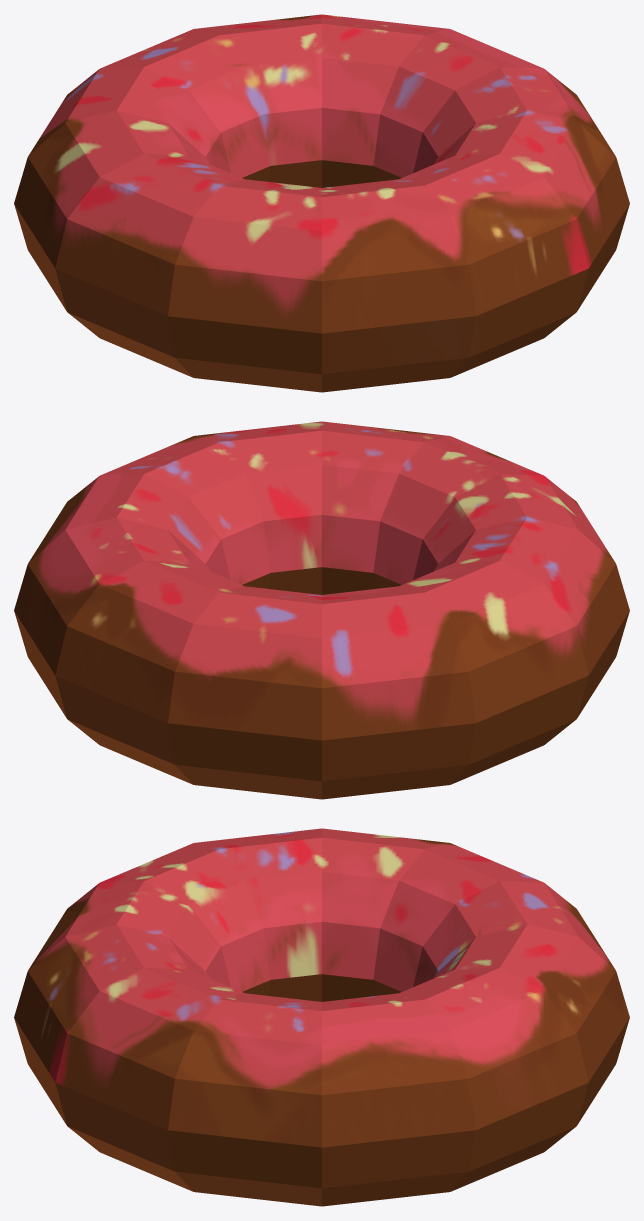
Rendered from Donut_Cook_Resize.fbx.
3 renders of one model, top to bottom at view 1: azimuth 30°, elevation 25°; view 2: azimuth 150°, elevation 25°; view 3: azimuth 270°, elevation 25°, orthographic.
Visible parts, largest first — view 1: Donut_Cooked; view 2: Donut_Cooked; view 3: Donut_Cooked.
Part boxes in pixels (bbox=[...]): Donut_Cooked: bbox=[14, 14, 629, 392]; Donut_Cooked: bbox=[14, 421, 629, 799]; Donut_Cooked: bbox=[14, 828, 629, 1206].
Size of the model in its own units: 86.32 by 28.77 by 86.32.
